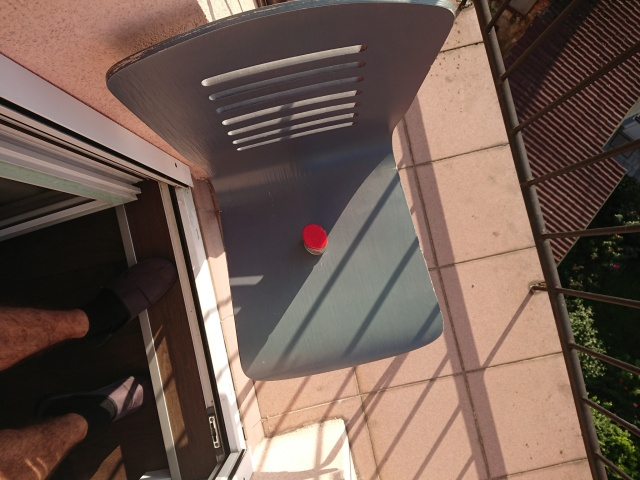Kotanyi Curry Spices Mix 70g: (300, 222, 330, 258)
